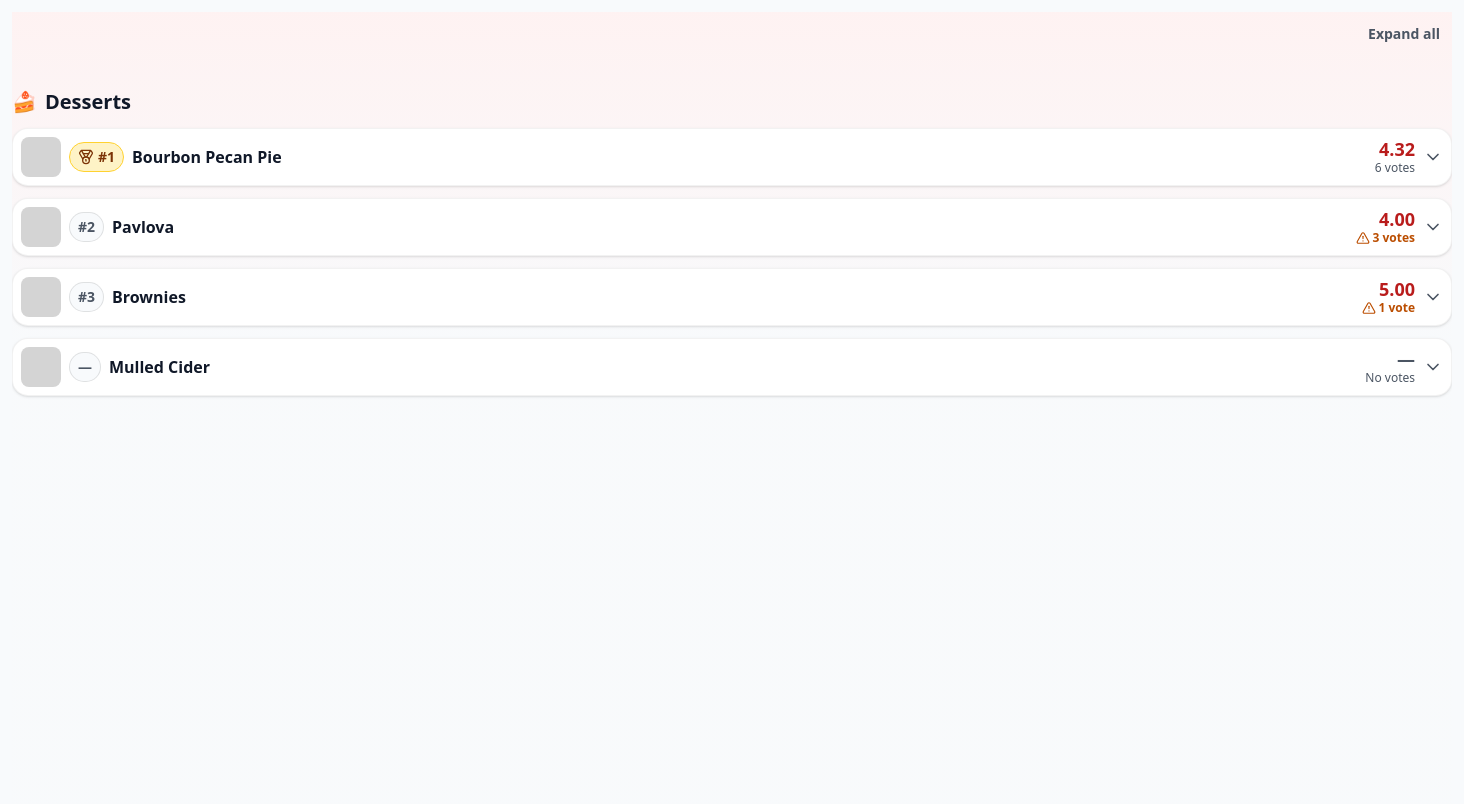
Test case: ResultsTab › expands and collapses every card at once
The image size is (1464, 804).
Click the button "Expand all": (1404,34) [1356,12,1452,56]
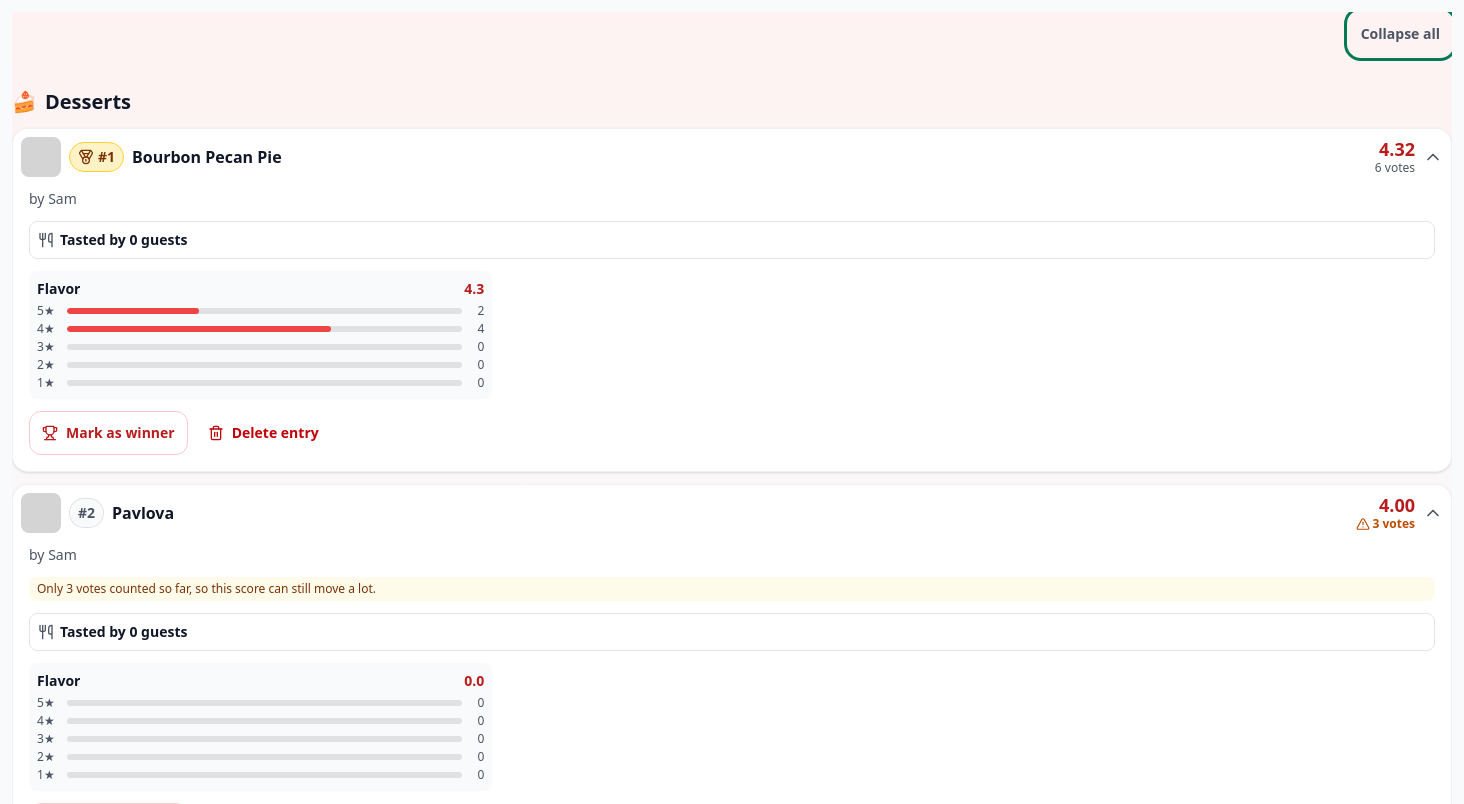
Now the number of buttons "Delete entry" is 4
Click the button "Collapse all": (1400,34) [1349,12,1452,56]
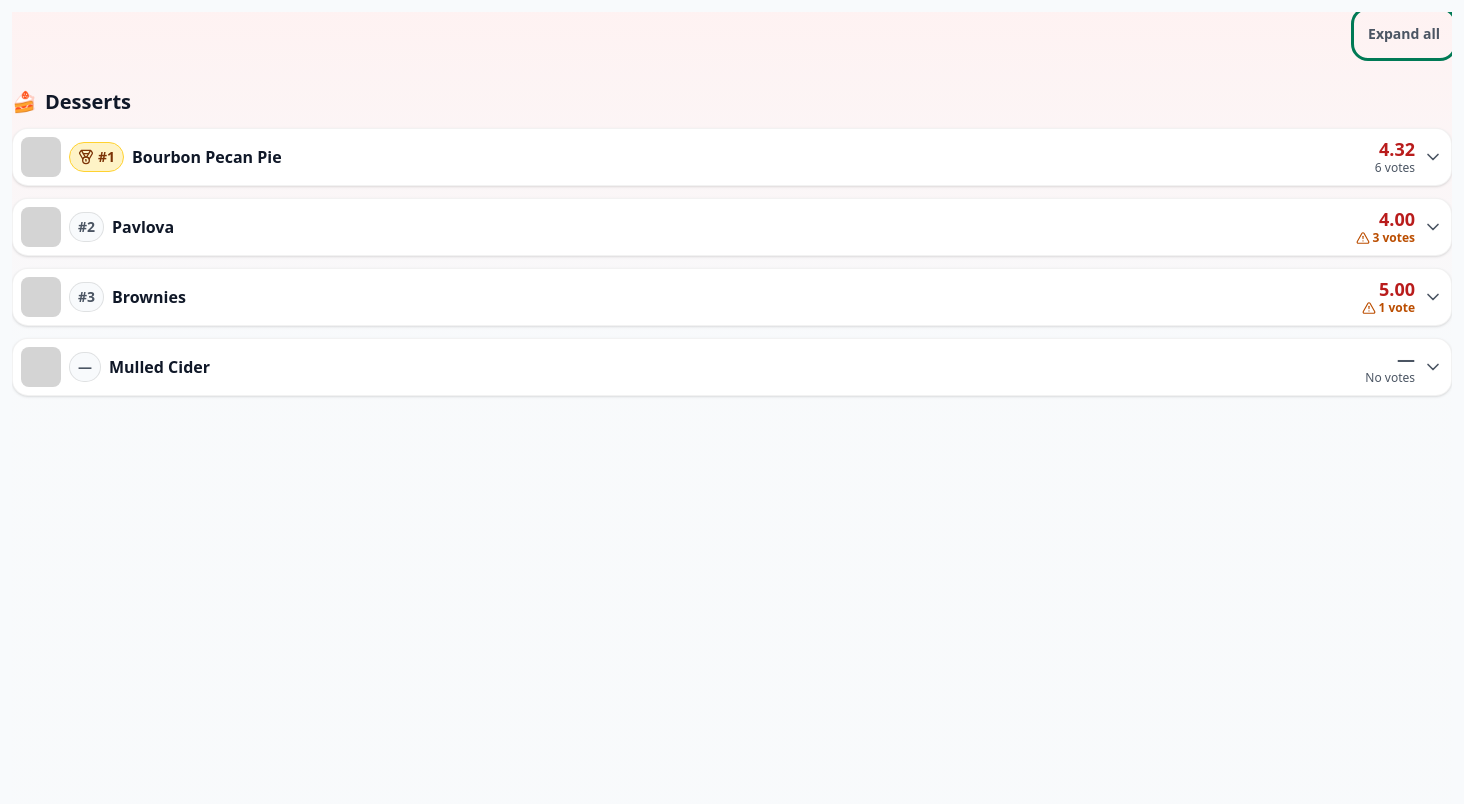
Now the button "Delete entry" is gone
